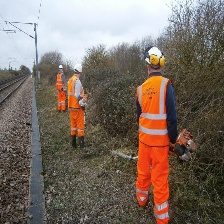helmet: (142, 46, 168, 68), (73, 63, 84, 75), (58, 65, 64, 70)
person: (132, 41, 181, 224), (66, 58, 91, 152), (55, 63, 69, 115)
vest: (136, 75, 173, 148), (68, 76, 86, 111), (57, 72, 65, 91)
